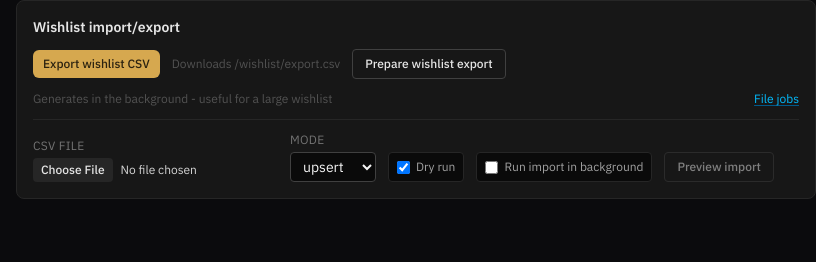
Test: WishlistImportExport › does not crash when export job creation fails
Click the button "Prepare wishlist export".
click(429, 64)  # box [352,49,506,79]
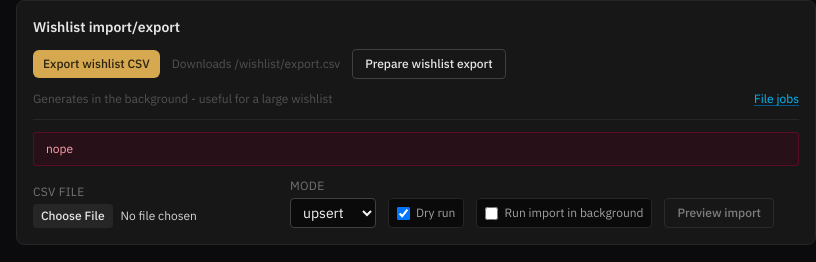
Expected: the text "nope" is shown, [33,132,799,166]
